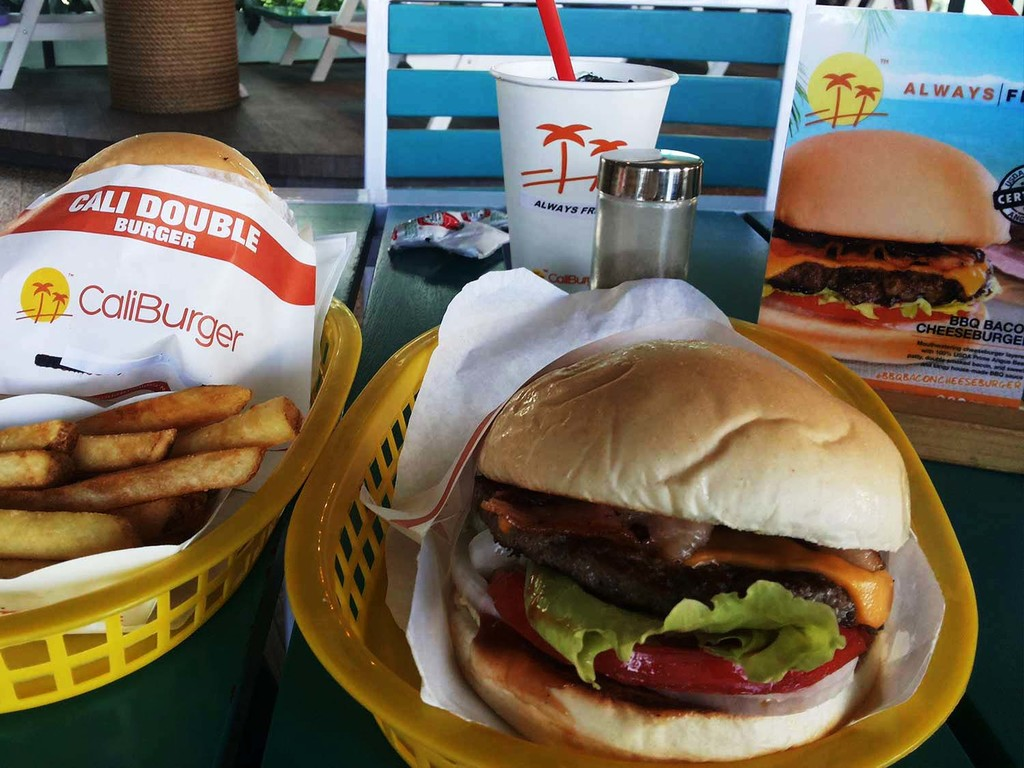French fries: (0, 374, 286, 554)
